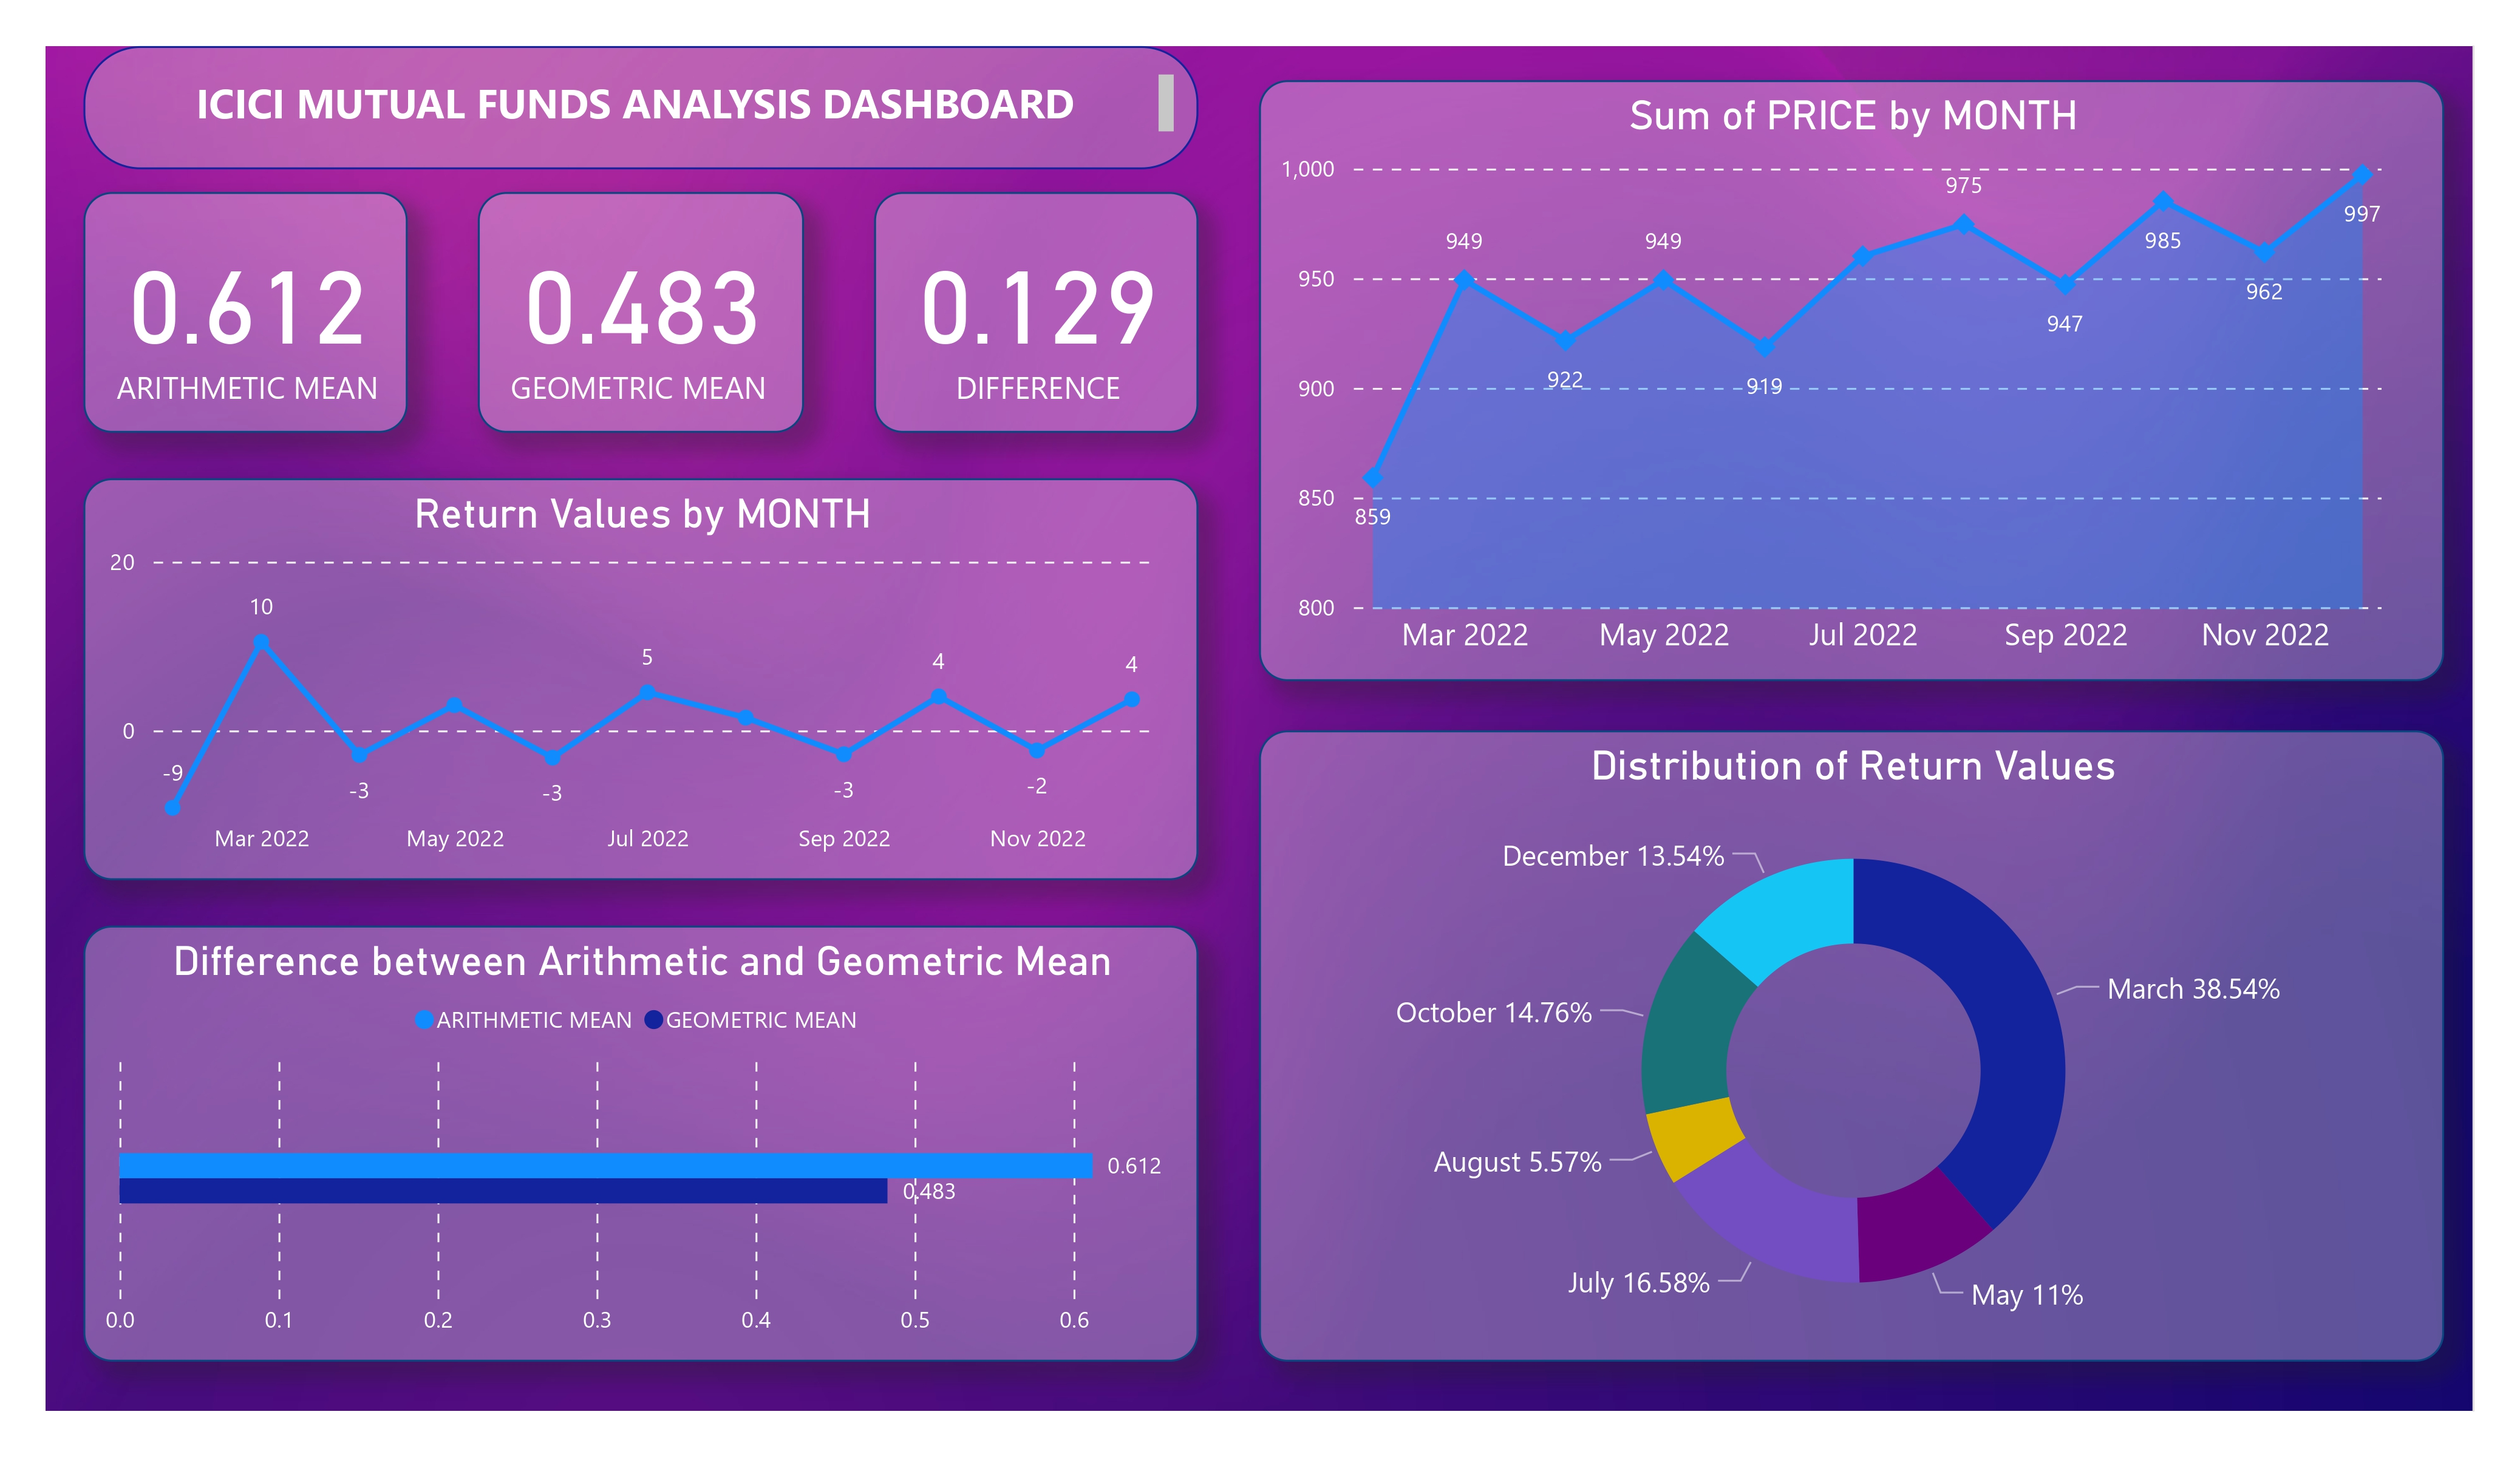

Layout of this report page (visuals, bound fields, positions):
{"tool":"powerbi","page":{"name":"ICICI","canvas":[1280,720],"ordinal":3},"visuals":[{"type":"textbox","box":[19.5,0,589,64.6],"z":0},{"type":"lineChart","title":"Return Values by MONTH","fields":{"Category":["AXIS.MONTH.Variation.Date Hierarchy.Year","AXIS.MONTH.Variation.Date Hierarchy.Quarter","AXIS.MONTH.Variation.Date Hierarchy.Month","AXIS.MONTH.Variation.Date Hierarchy.Day"],"Y":["Sum(ICICI.RETURN)"]},"box":[19.5,228.4,589,211.8],"z":1000},{"type":"areaChart","fields":{"Category":["AXIS.MONTH"],"Y":["Sum(ICICI.PRICE)"]},"box":[640,18,625,317],"z":2000},{"type":"donutChart","title":"Distribution of Return Values","fields":{"Category":["AXIS.MONTH.Variation.Date Hierarchy.Month","AXIS.MONTH.Variation.Date Hierarchy.Day"],"Y":["Sum(ICICI.RETURN)"]},"box":[640,360.6,625,333.5],"z":3000},{"type":"clusteredBarChart","title":"Difference between Arithmetic and Geometric Mean","fields":{"Y":["Sum(icici (2).ARITHMETIC MEAN)","Sum(icici (2).GEOMETRIC MEAN )"]},"box":[19.5,464.3,589,229.9],"z":4000},{"type":"card","fields":{"Values":["Sum(icici (2).ARITHMETIC MEAN)"]},"box":[19.5,76.6,171.3,127.7],"z":5000},{"type":"card","fields":{"Values":["Sum(icici (2).GEOMETRIC MEAN )"]},"box":[228.4,76.6,171.3,127.7],"z":6000},{"type":"card","fields":{"Values":["Sum(icici (2).DIFFERENCE)"]},"box":[437.2,76.6,171.3,127.7],"z":7000}]}

Visuals, with their boxes on the page's 1280x720 design canvas (x1, y1, x2, y2). These are canvas units, not pixel positions in the 2520x1457 screenshot, which may show the page scaled, cropped or inside an application window:
textbox: [left=20, top=0, right=608, bottom=65]
"Return Values by MONTH" lineChart: [left=20, top=228, right=608, bottom=440]
areaChart - AXIS.MONTH x Sum(ICICI.PRICE): [left=640, top=18, right=1265, bottom=335]
"Distribution of Return Values" donutChart: [left=640, top=361, right=1265, bottom=694]
"Difference between Arithmetic and Geometric Mean" clusteredBarChart: [left=20, top=464, right=608, bottom=694]
card - Sum(icici (2).ARITHMETIC MEAN): [left=20, top=77, right=191, bottom=204]
card - Sum(icici (2).GEOMETRIC MEAN ): [left=228, top=77, right=400, bottom=204]
card - Sum(icici (2).DIFFERENCE): [left=437, top=77, right=608, bottom=204]
